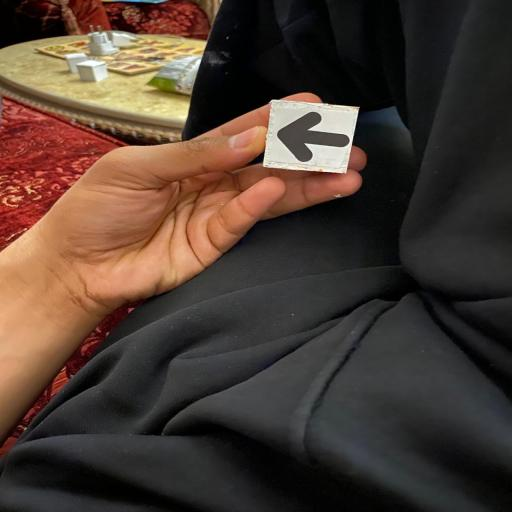Back: (260, 98, 360, 175)
